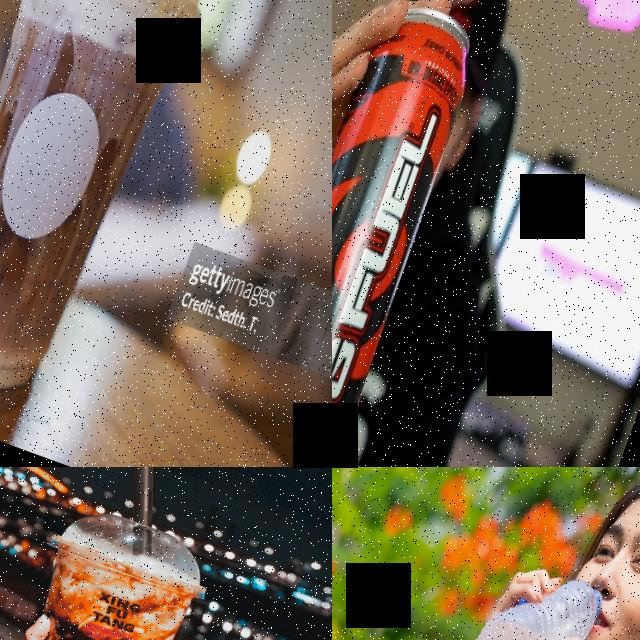bottle: (459, 551, 611, 640)
can: (332, 0, 497, 467)
cup: (0, 0, 255, 420), (10, 495, 222, 640)
